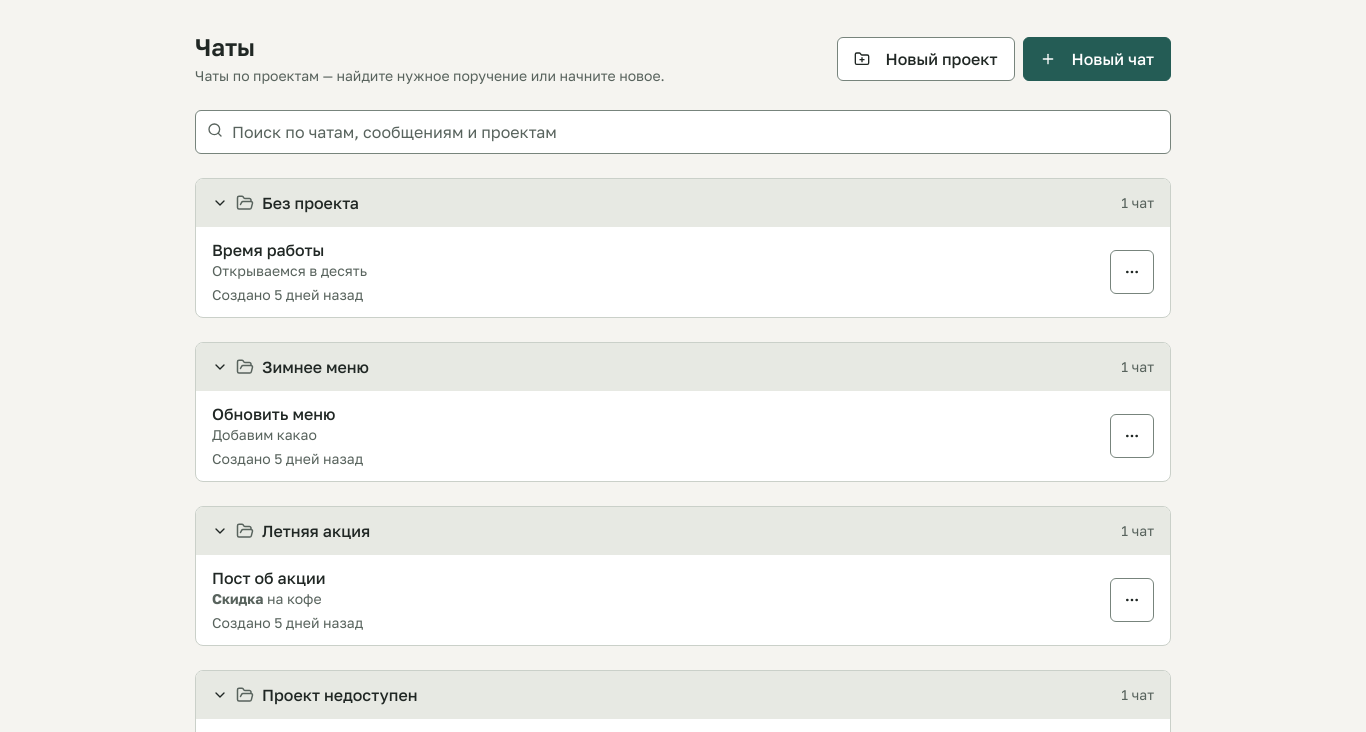
searches project names, chat titles and previews, reveals collapsed results and offers a reset
Step 1. Click the button "Летняя акция 1 чат" → (316, 531), box [196,507,1170,555]
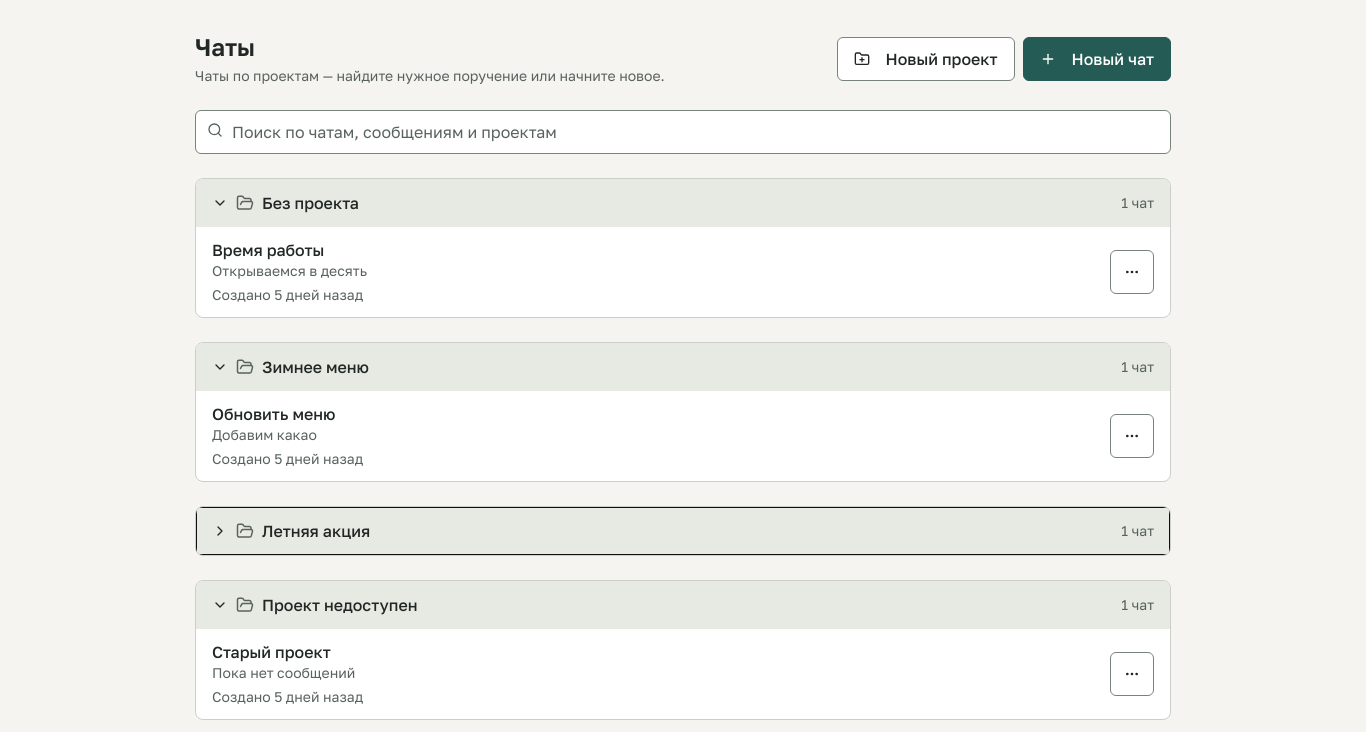
Step 2. Type "летняя" into the search field → (683, 132), box [195,110,1171,154]
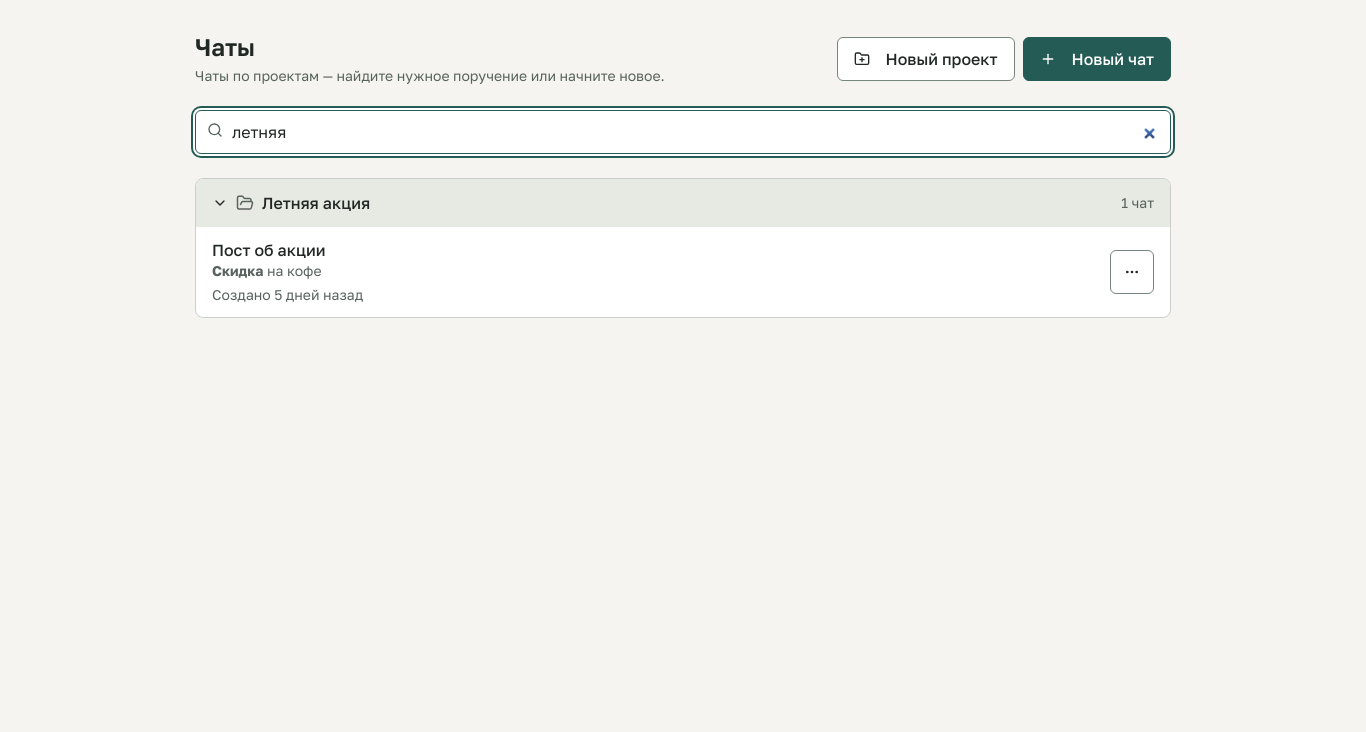
Expected: the text "Пост об акции" is shown, [212,240,326,260]
Expected: the button "Обновить меню" is gone
Step 3. Replace the text in the search field with "какао" → (683, 132), box [195,110,1171,154]
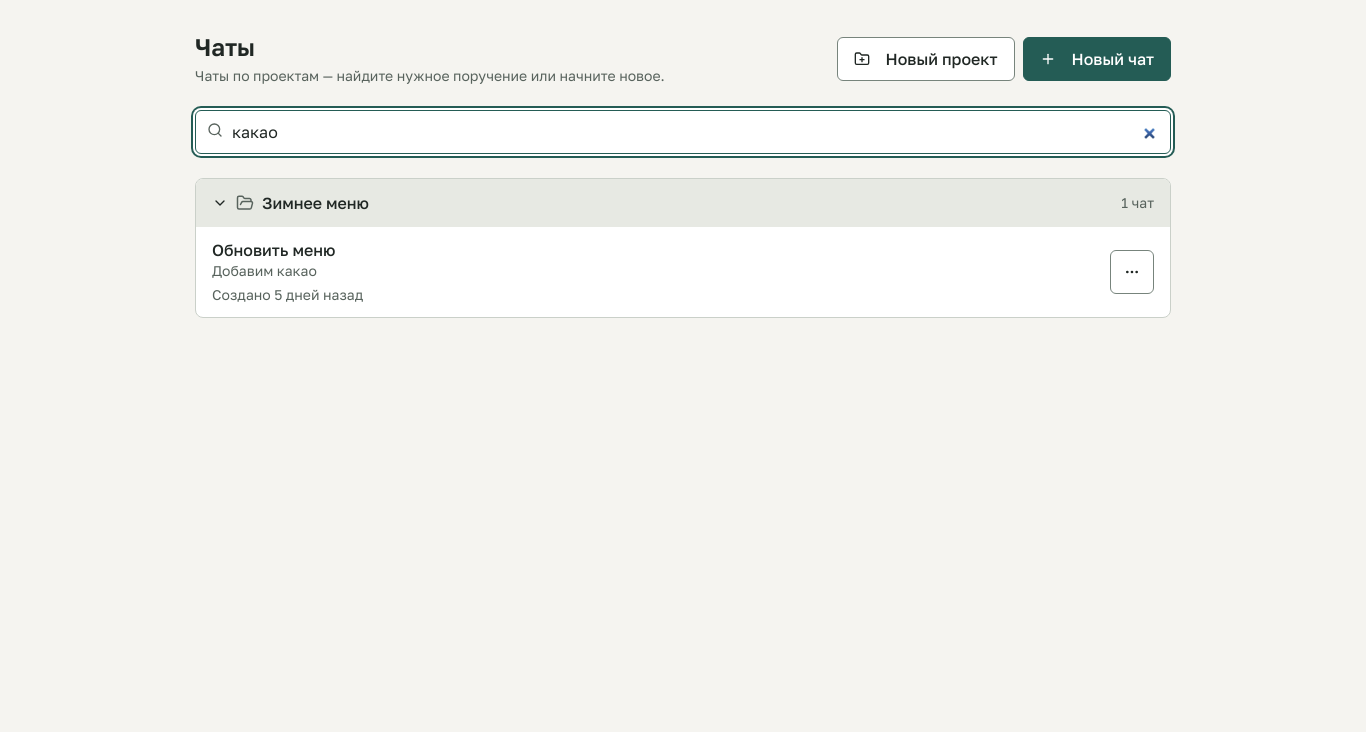
Expected: the text "Обновить меню" is shown, [212,240,335,260]
Step 4. Replace the text in the search field with "время" → (683, 132), box [195,110,1171,154]
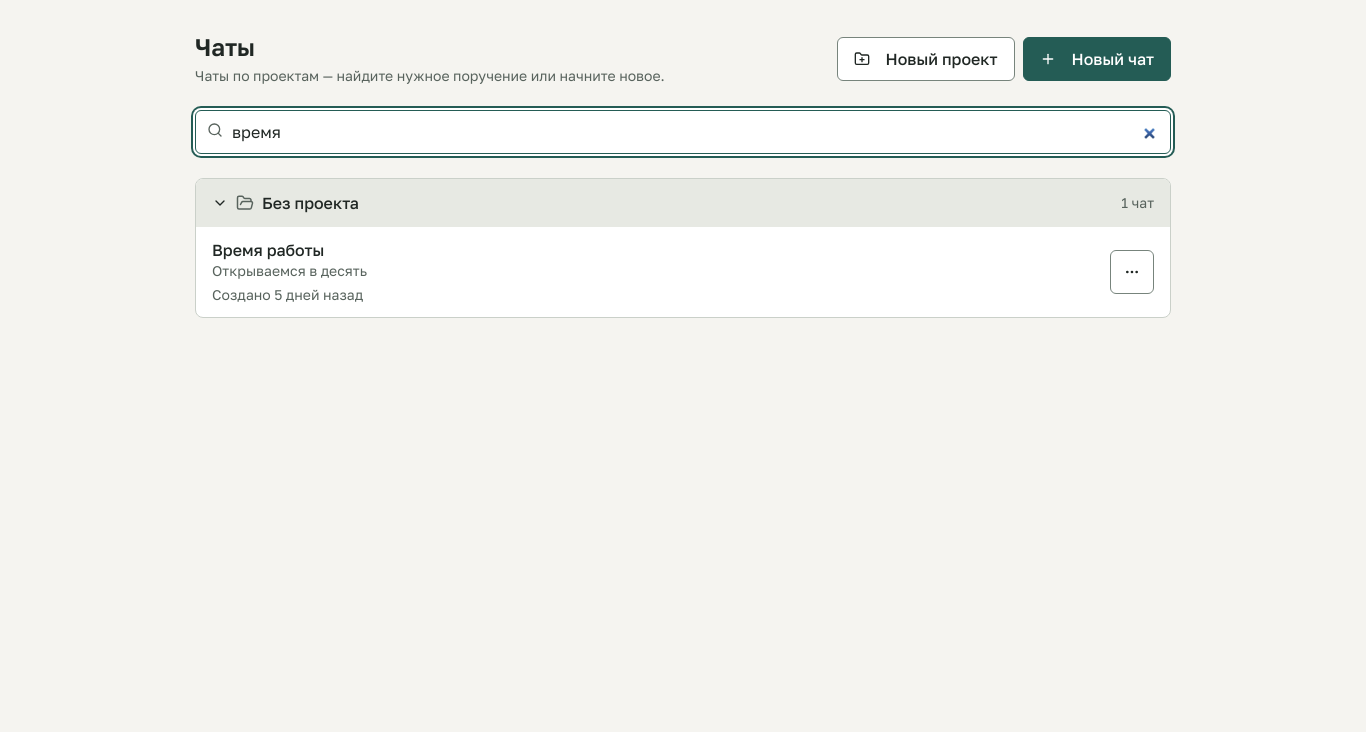
Expected: the text "Время работы" is shown, [212,240,324,260]
Step 5. Replace the text in the search field with "неизвестное" → (683, 132), box [195,110,1171,154]
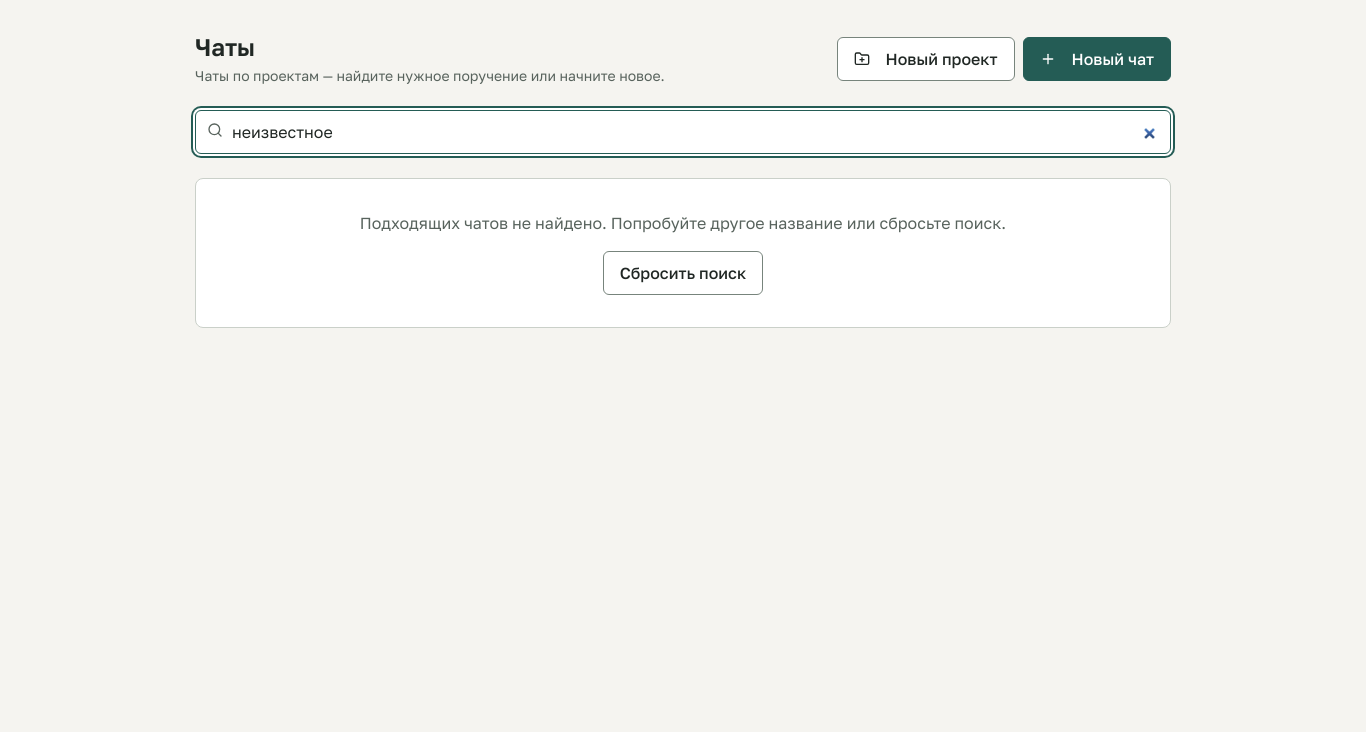
Step 6. Click the button "Сбросить поиск" → (683, 273), box [603,251,763,295]
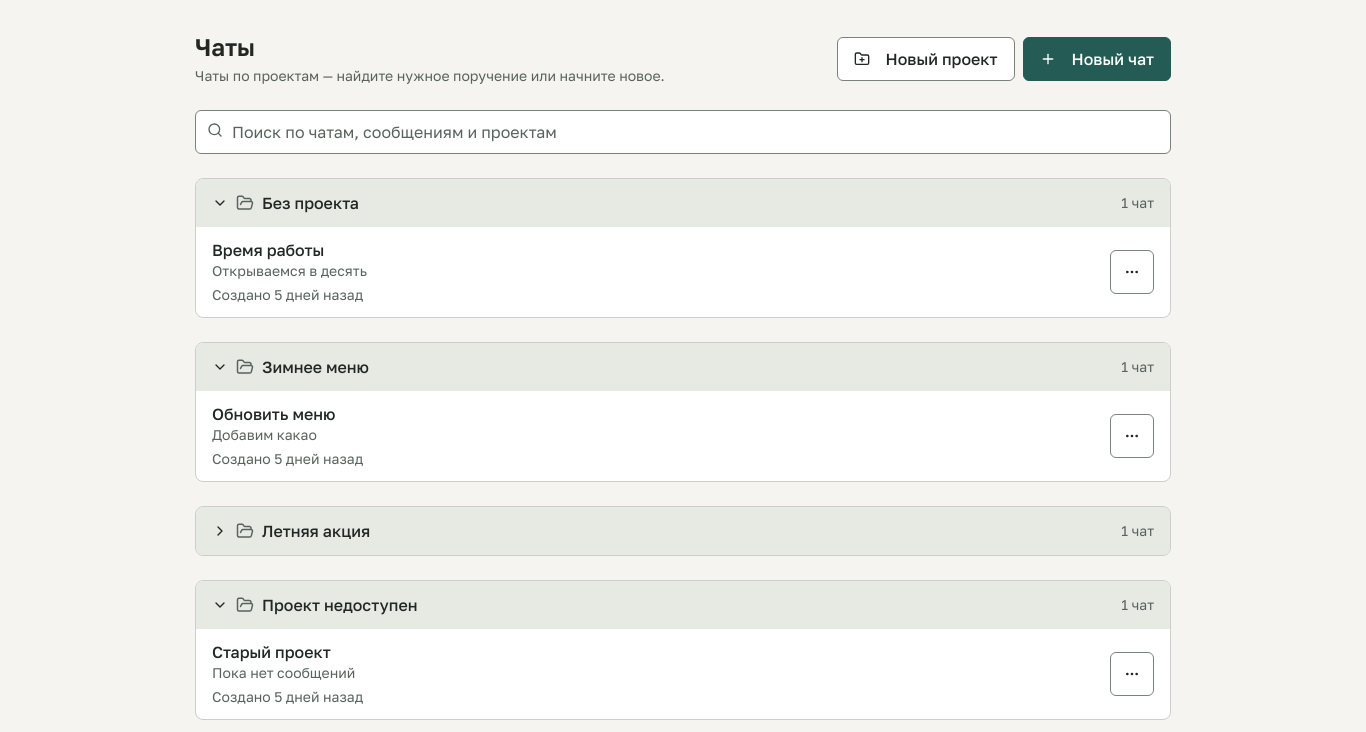
Expected: the text "Обновить меню" is shown, [212,404,335,424]
